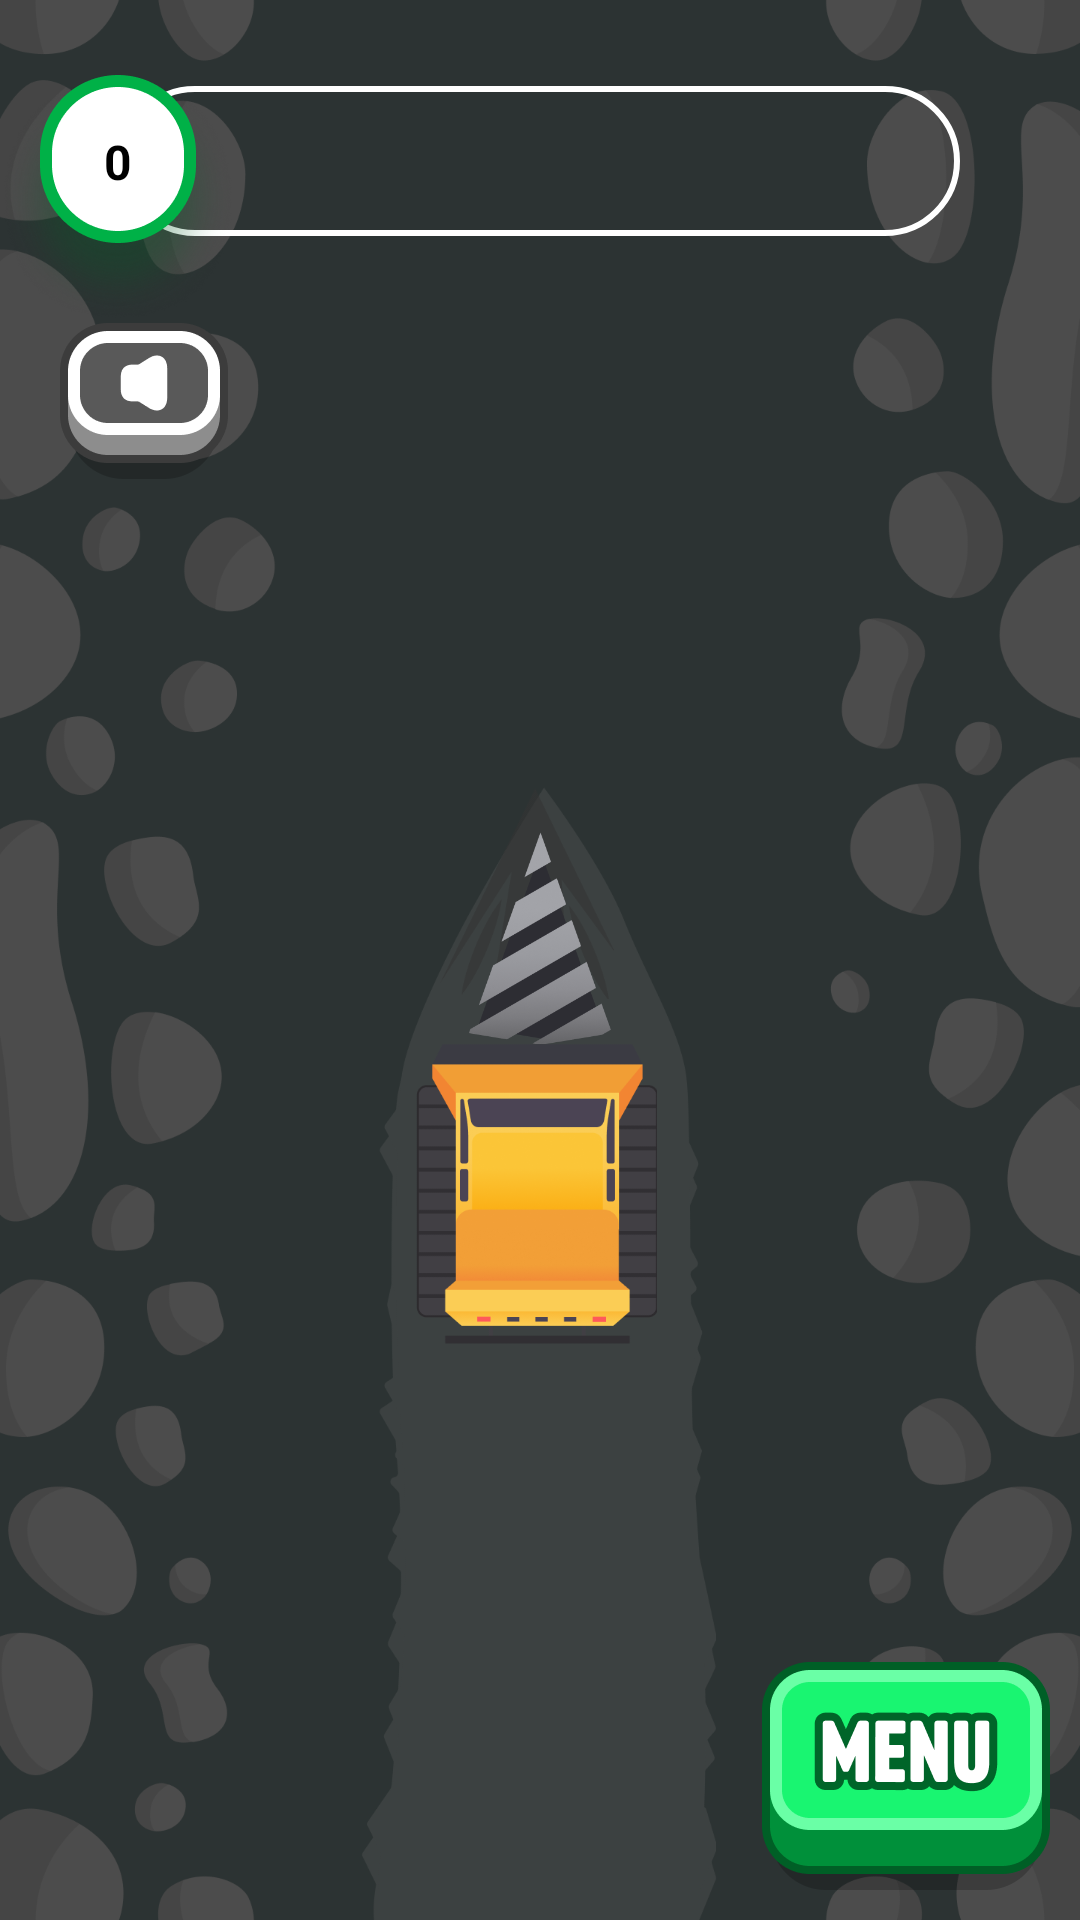

Icon click points for this 1080*1920 phone screenshot, format (x,y):
sound power: (144,401)
